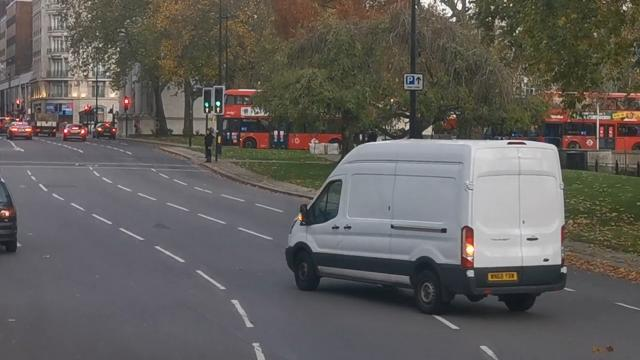car: (62, 121, 87, 143), (8, 121, 34, 141), (92, 122, 117, 141)
truck: (30, 107, 57, 137)
van: (276, 136, 572, 314)
